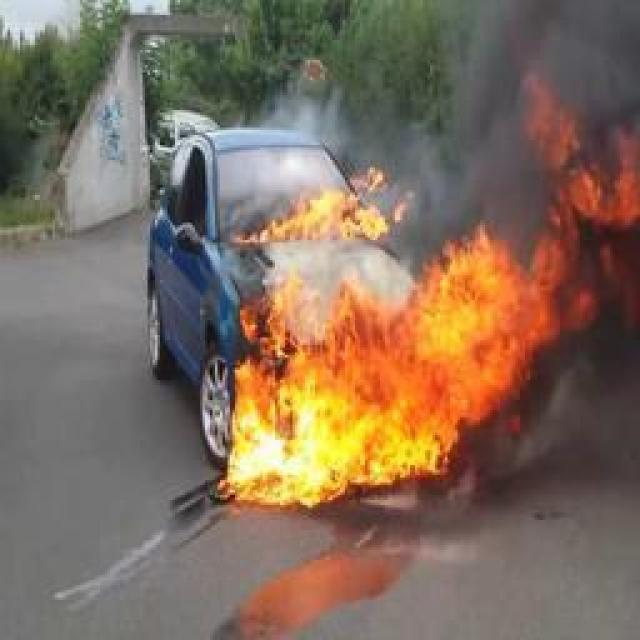Fire: (212, 70, 640, 508), (227, 168, 415, 240)
